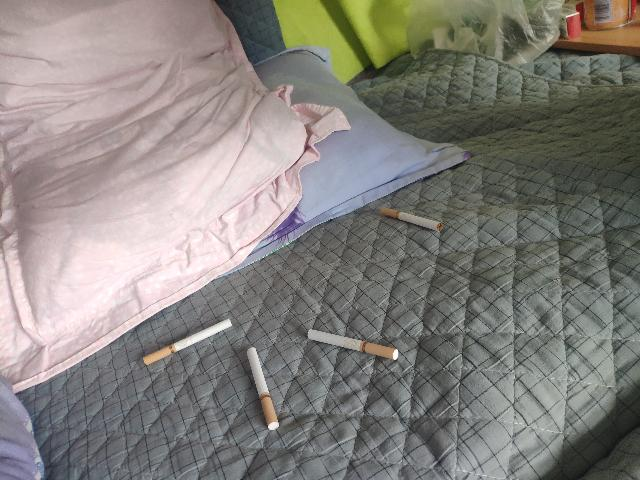Cigarette: (143, 318, 233, 366), (308, 329, 400, 361), (247, 347, 280, 431), (381, 206, 444, 232)
